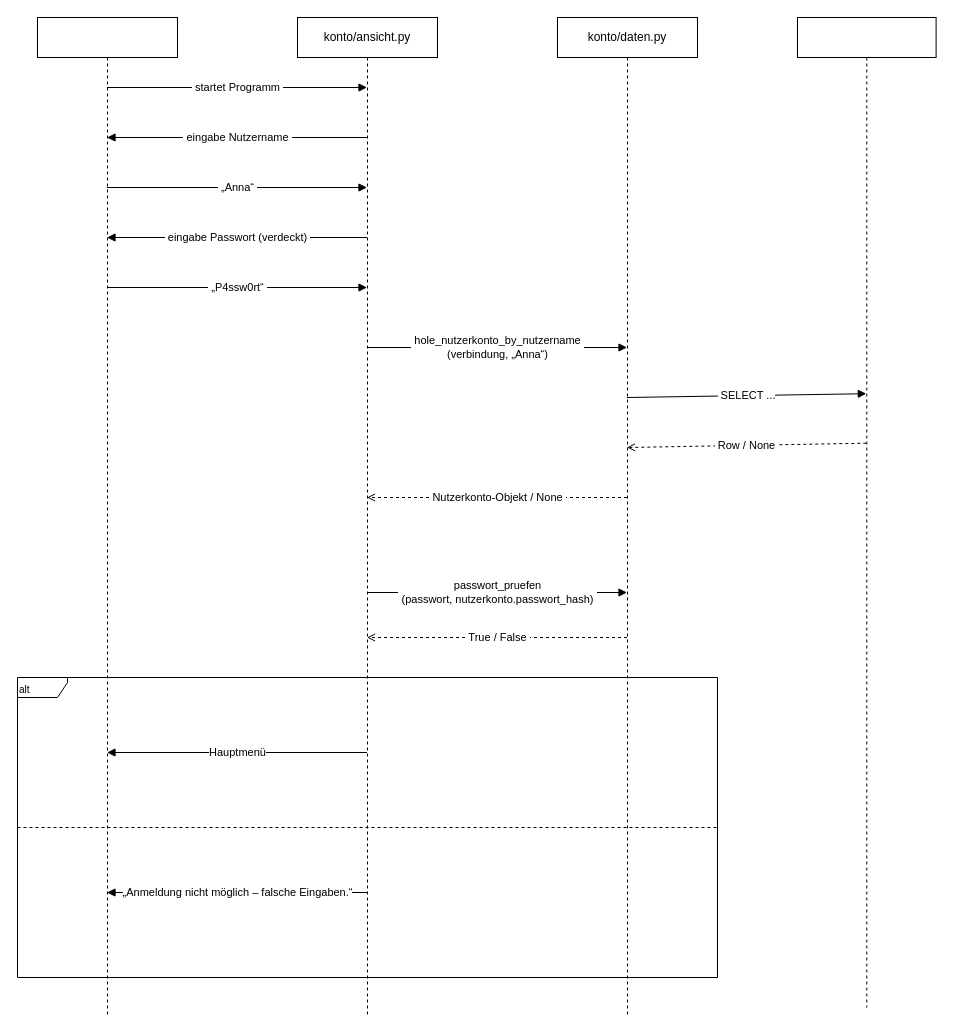
Some shapes in this 954 by 1035 pixel diagram are drawn without their labels. The box of each missing label's shape, as (x1, y1, x2, y2) in pixels:
Mieter (Anna): (36, 16, 178, 1018)
SQLite (DB): (796, 16, 936, 1008)
